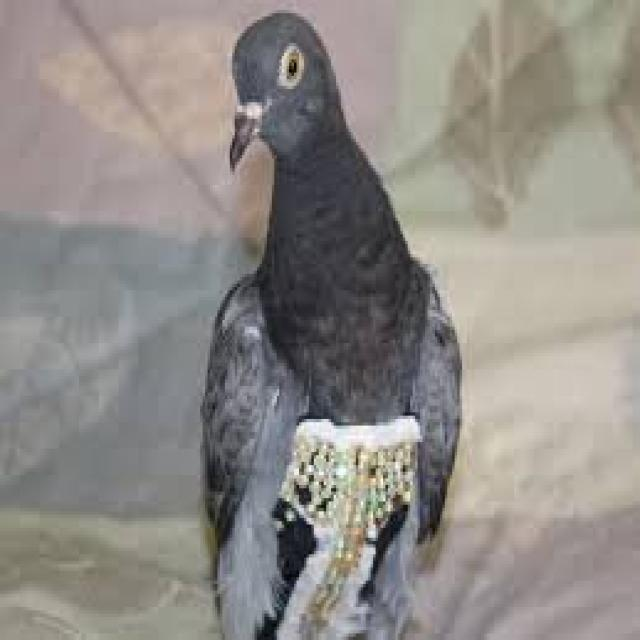Pigeon: (198, 3, 467, 640)
